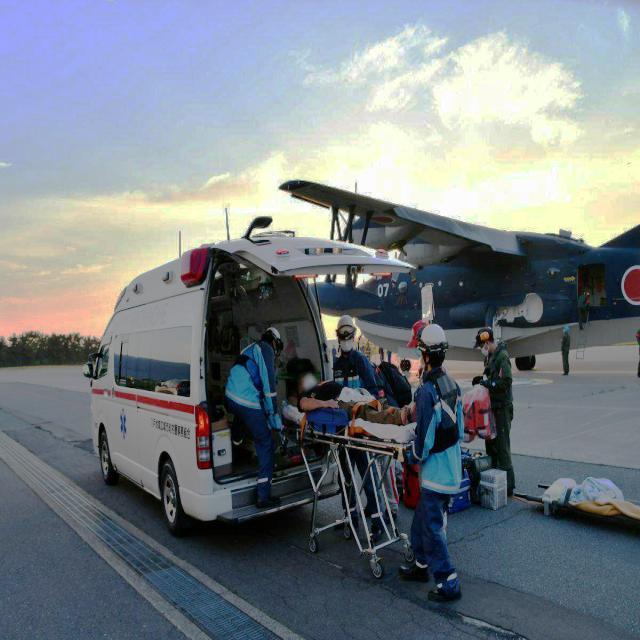Aircraft: (278, 178, 639, 374)
